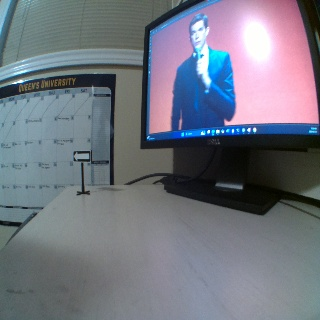sign_oneway_left: (72, 149, 91, 161)
